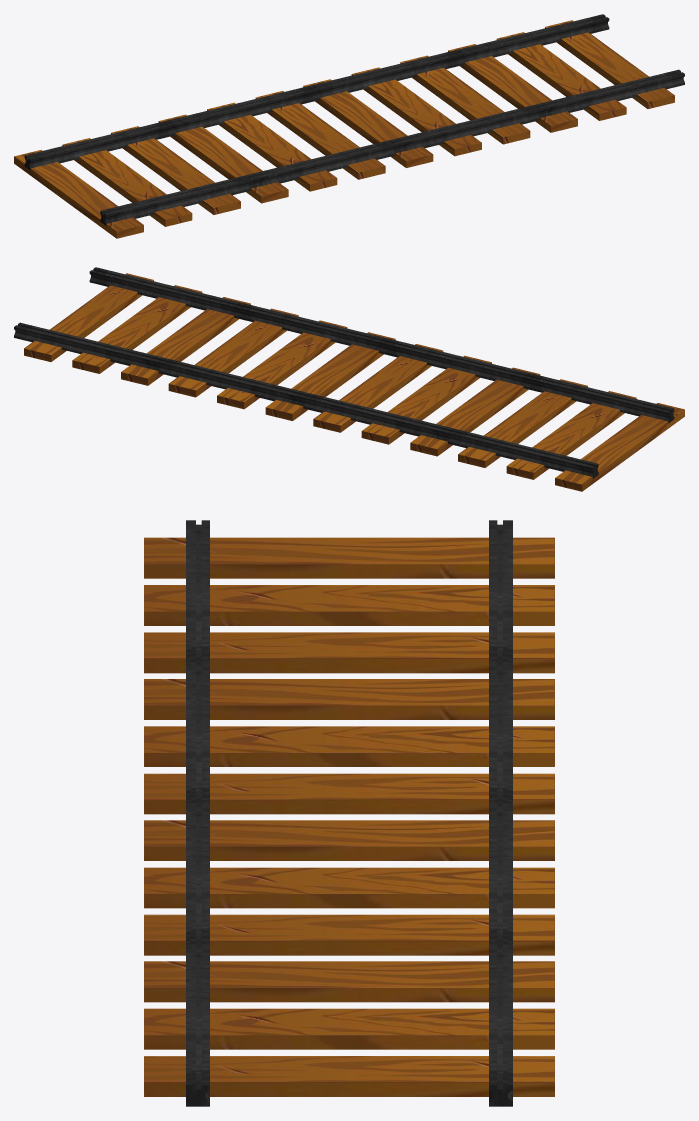
Rendered from CartTracks.fbx.
3 renders of one model, top to bottom at view 1: azimuth 30°, elevation 25°; view 2: azimuth 150°, elevation 25°; view 3: azimuth 270°, elevation 25°, orthographic. The views are drawn at different scales.
Parts seen in each view (by area): view 1: Cube.004; view 2: Cube.004; view 3: Cube.004.
Part boxes in pixels (bbox=[...]): Cube.004: bbox=[14, 14, 684, 238]; Cube.004: bbox=[14, 267, 684, 491]; Cube.004: bbox=[144, 520, 554, 1106].
Size of the model in its own units: 969 by 25.48 by 298.
